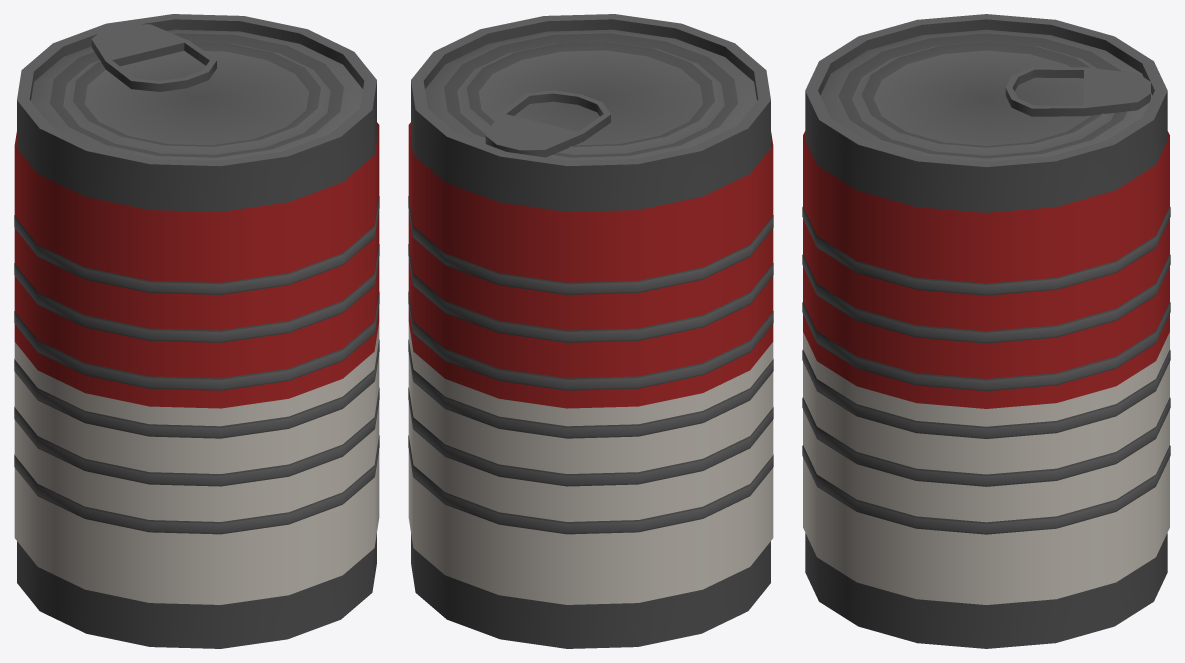
3 renders of one model, left to right at view 1: azimuth 30°, elevation 25°; view 2: azimuth 150°, elevation 25°; view 3: azimuth 270°, elevation 25°, orthographic.
Parts seen in each view (by area): view 1: MysteryCan; view 2: MysteryCan; view 3: MysteryCan.
Part boxes in pixels (bbox=[...]): MysteryCan: bbox=[14, 14, 379, 648]; MysteryCan: bbox=[408, 14, 773, 648]; MysteryCan: bbox=[802, 14, 1170, 648].
Bounding box in the file's own units: 0.3441 × 0.5 × 0.3441.
